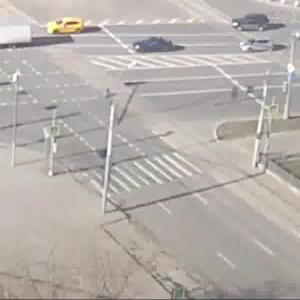car: (135, 36, 181, 56), (230, 15, 271, 31), (43, 22, 84, 36), (244, 37, 273, 55)
